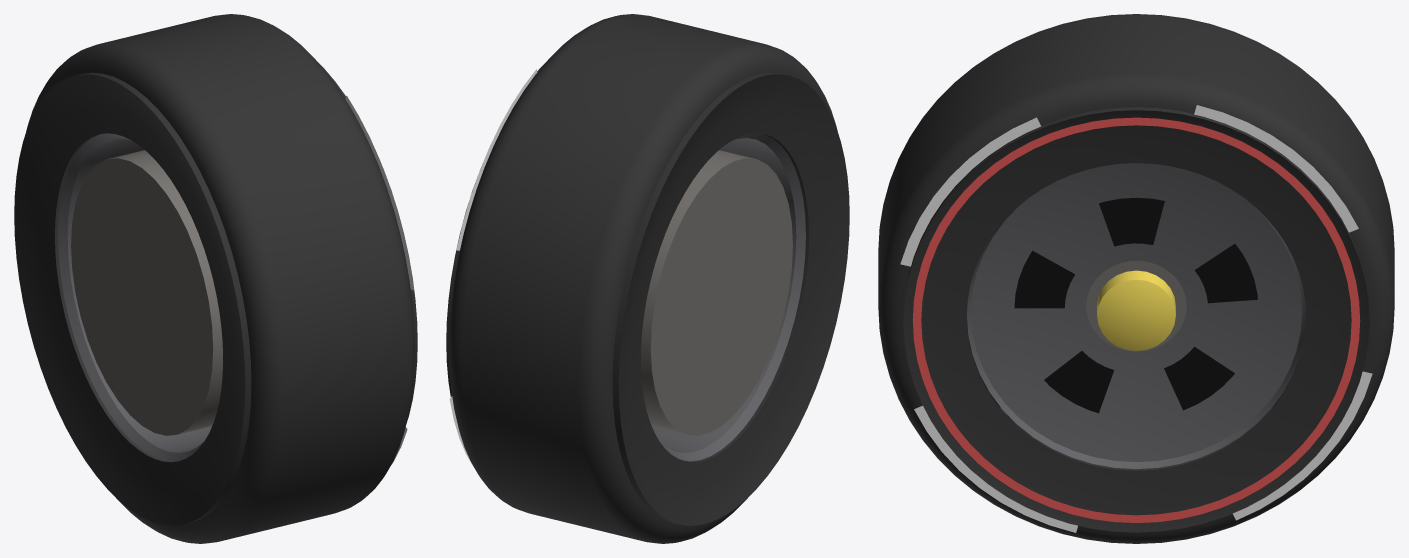
File: f1_2026_wheel_front.glb
3 renders of one model, left to right at view 1: azimuth 30°, elevation 25°; view 2: azimuth 150°, elevation 25°; view 3: azimuth 270°, elevation 25°, orthographic.
Visible parts, largest first — view 1: wheel_front_Tyre, wheel_front_Brake, wheel_front_Rim, wheel_front_TyreText; view 2: wheel_front_Tyre, wheel_front_Brake, wheel_front_Rim, wheel_front_TyreText; view 3: wheel_front_Tyre, wheel_front_Rim, wheel_front_Inlet, wheel_front_TyreStripe, wheel_front_TyreText, wheel_front_LiveryAccent, wheel_front_Brake.
Boxes of the visible parts, bbox=[...] form: wheel_front_Tyre: bbox=[14, 14, 417, 543]; wheel_front_Brake: bbox=[71, 150, 222, 435]; wheel_front_Rim: bbox=[58, 133, 211, 461]; wheel_front_TyreText: bbox=[345, 96, 414, 464]; wheel_front_Tyre: bbox=[446, 14, 849, 543]; wheel_front_Brake: bbox=[641, 150, 792, 435]; wheel_front_Rim: bbox=[652, 133, 805, 461]; wheel_front_TyreText: bbox=[449, 69, 537, 464]; wheel_front_Tyre: bbox=[878, 14, 1394, 543]; wheel_front_Rim: bbox=[967, 163, 1305, 468]; wheel_front_Inlet: bbox=[1014, 197, 1257, 413]; wheel_front_TyreStripe: bbox=[912, 117, 1360, 522]; wheel_front_TyreText: bbox=[900, 105, 1372, 532]; wheel_front_LiveryAccent: bbox=[1097, 270, 1175, 350]; wheel_front_Brake: bbox=[1086, 260, 1186, 351].
Bounding box in the file's own units: 0.28 × 0.72 × 0.72.
